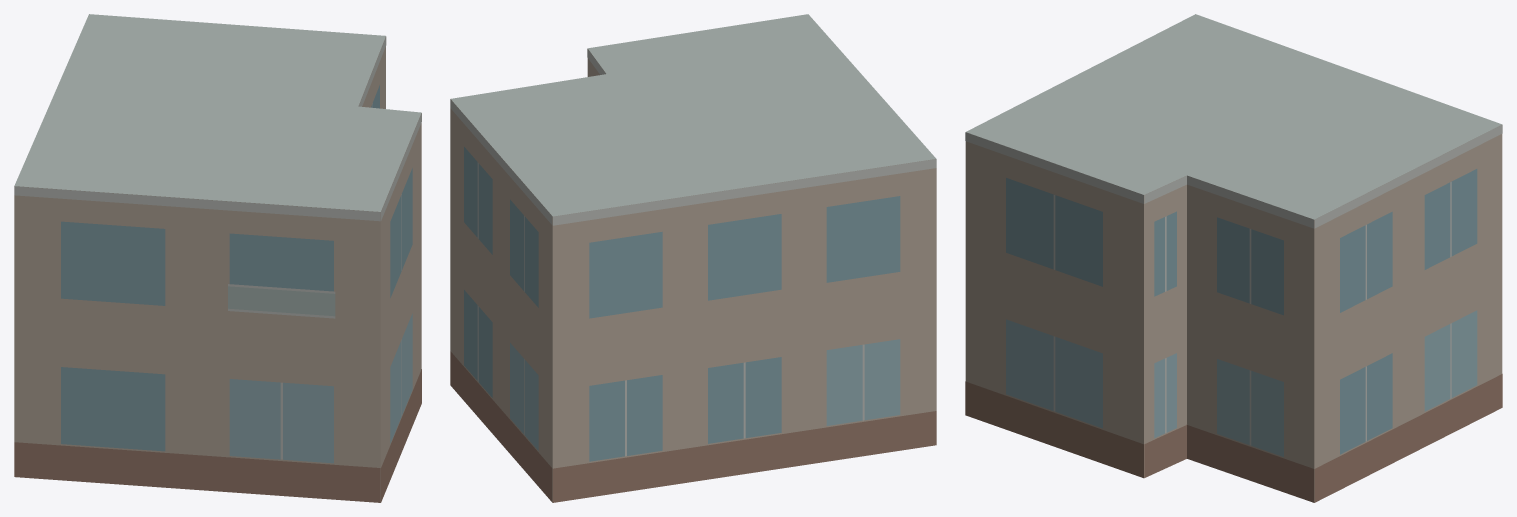
The model's file is survey-upis-33014773.glb.
3 views of the same model, side by side, from view 1: azimuth 30°, elevation 25°; view 2: azimuth 150°, elevation 25°; view 3: azimuth 270°, elevation 25° (orthographic). The views are drawn at different scales.
Visible parts, largest first — view 1: survey-upis-33014773.tmp; view 2: survey-upis-33014773.tmp; view 3: survey-upis-33014773.tmp.
Part boxes in pixels (x1=…): survey-upis-33014773.tmp: x1=14, y1=14, x2=421, y2=502; survey-upis-33014773.tmp: x1=450, y1=14, x2=936, y2=502; survey-upis-33014773.tmp: x1=965, y1=14, x2=1502, y2=502.
Size of the model in its own units: 11.84 by 7.6 by 13.07.
